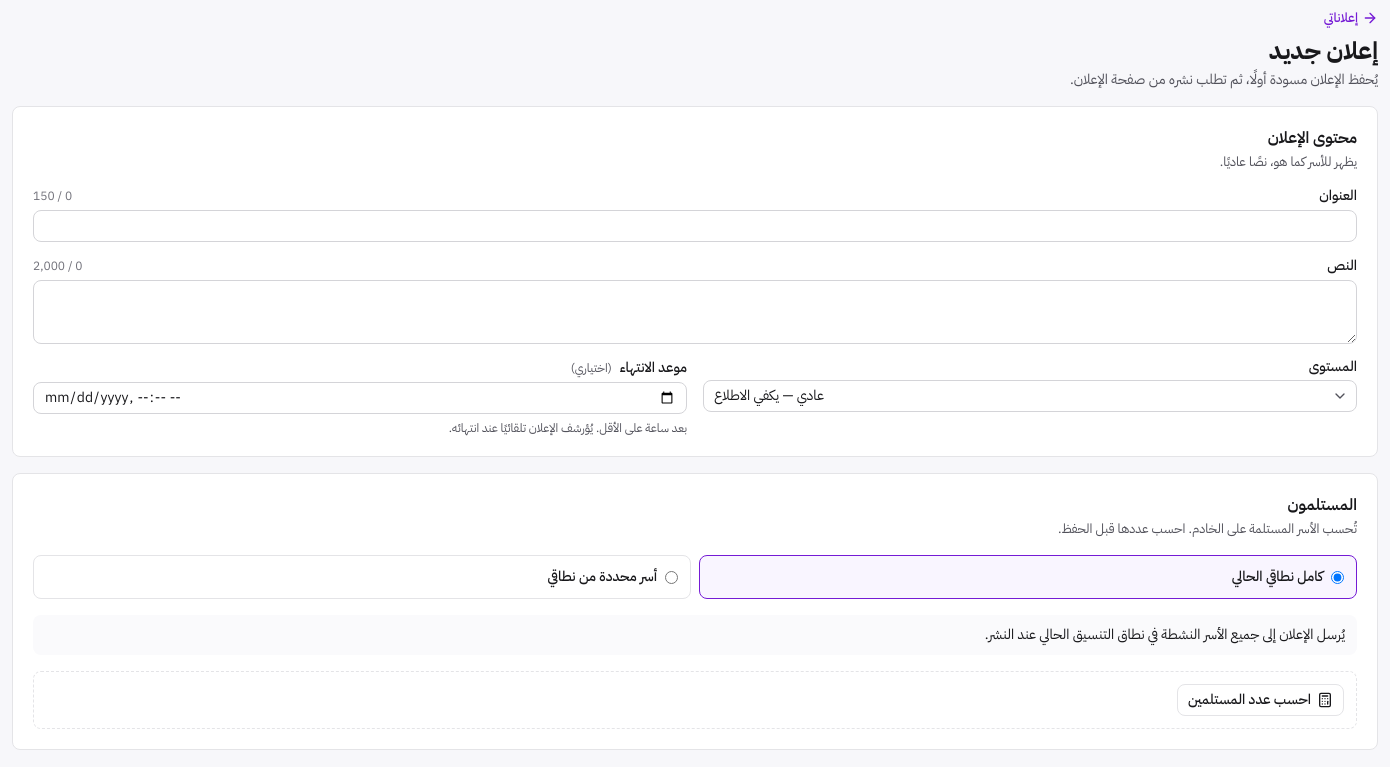
Test: composing a coordinator draft › offers only coordinator audiences and previews the whole current scope
Expected: the radio button labelled "كامل نطاقي الحالي" is checked, [1331,571,1344,584]
Expected: the radio button labelled "أسر محددة من نطاقي" is shown, [665,571,678,584]
Click the button "احسب عدد المستلمين".
click(1260, 700)  # box [1177,684,1344,716]
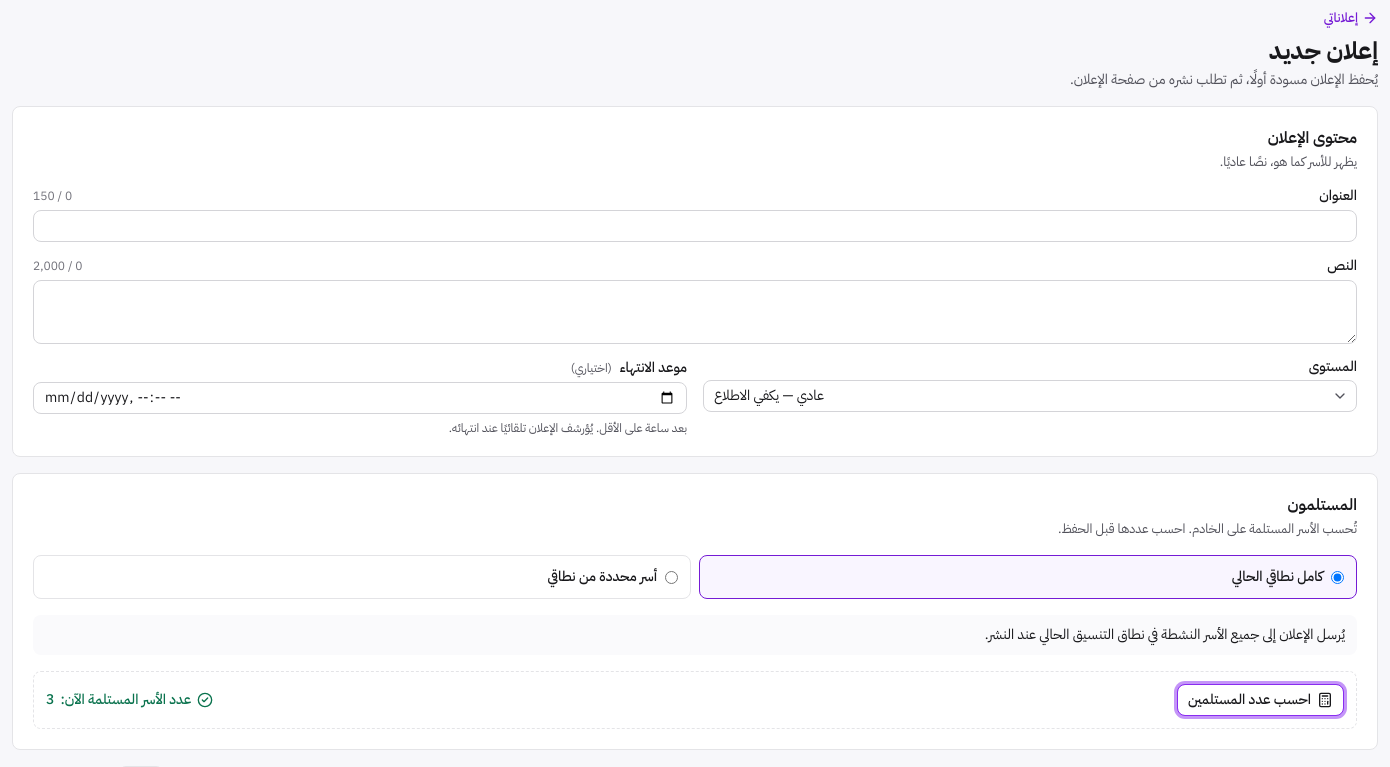
Expected: the text "عدد الأسر المستلمة الآن: 3" is shown, [46,690,213,710]
